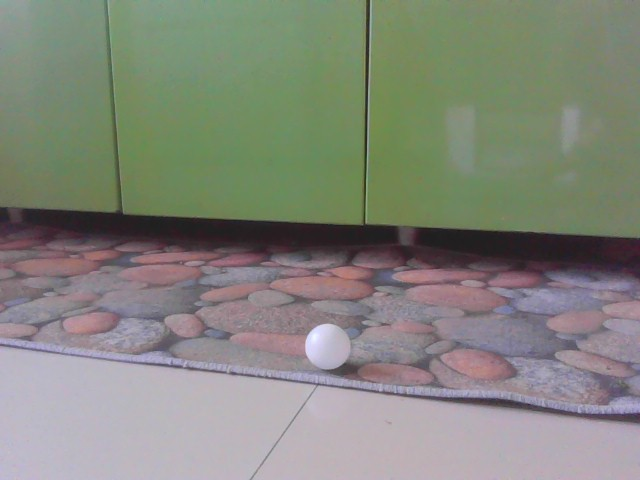ball: (307, 324, 352, 370)
